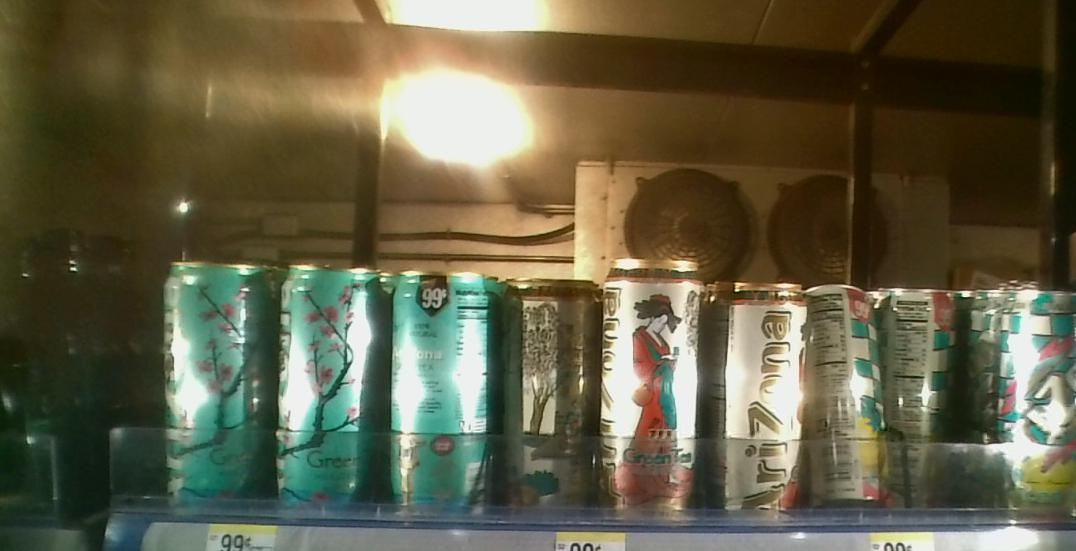bottle: (153, 249, 274, 493), (382, 261, 497, 510), (495, 268, 602, 512), (700, 270, 806, 515), (603, 256, 702, 514), (274, 263, 375, 499), (970, 292, 1076, 513), (806, 267, 881, 510), (887, 286, 966, 500)
